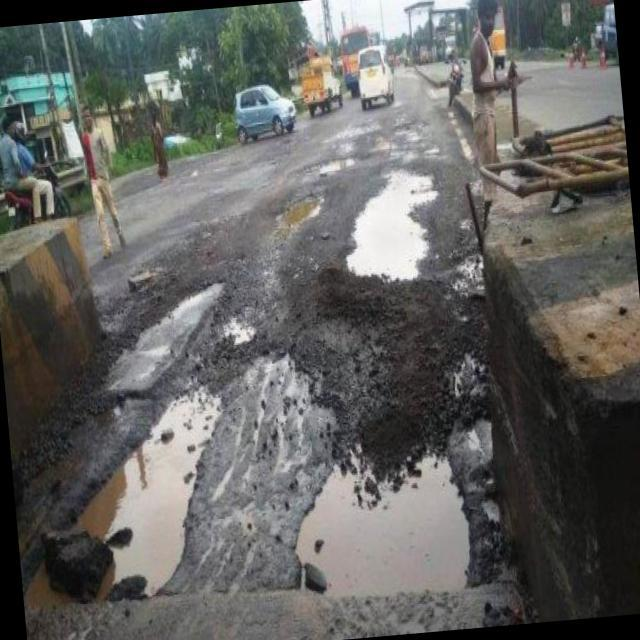Pothole: (79, 388, 219, 591), (297, 454, 469, 596), (346, 172, 436, 277), (28, 567, 63, 606), (282, 201, 318, 226)
